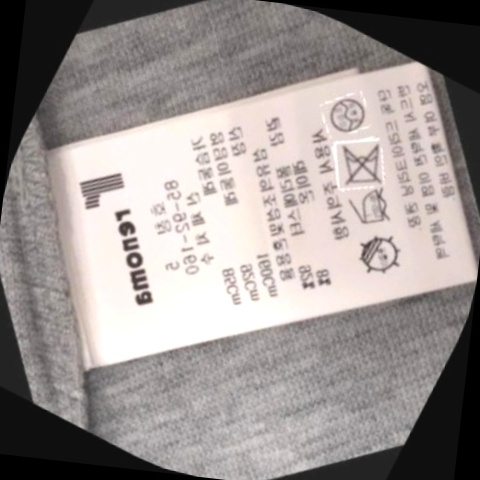DN_wash: (322, 129, 396, 197)
dry_clean_petrol_only: (317, 84, 376, 142)
iron_low: (339, 178, 404, 240)
line_dry_in_shade: (341, 222, 411, 286)
